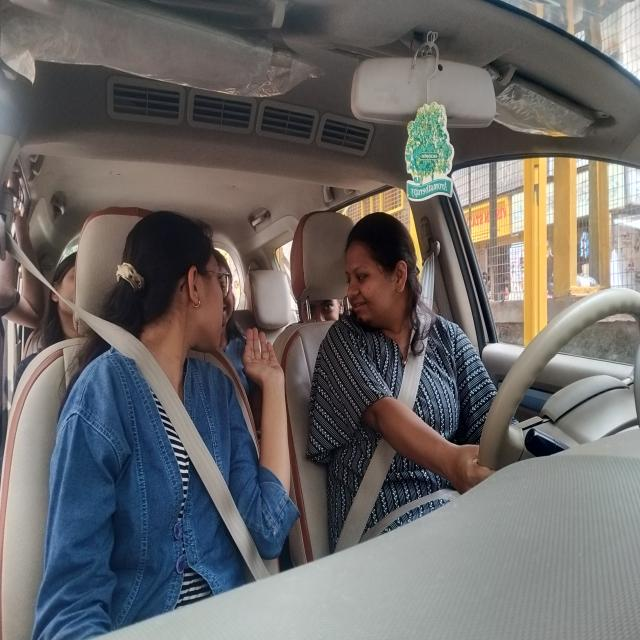LeftRight: (330, 209, 438, 351), (342, 288, 376, 318)
person: (108, 194, 245, 410)
